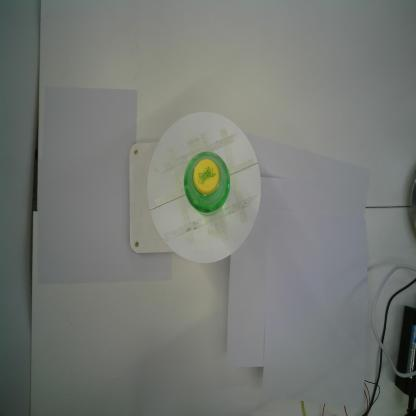Drink: (182, 149, 233, 220)
